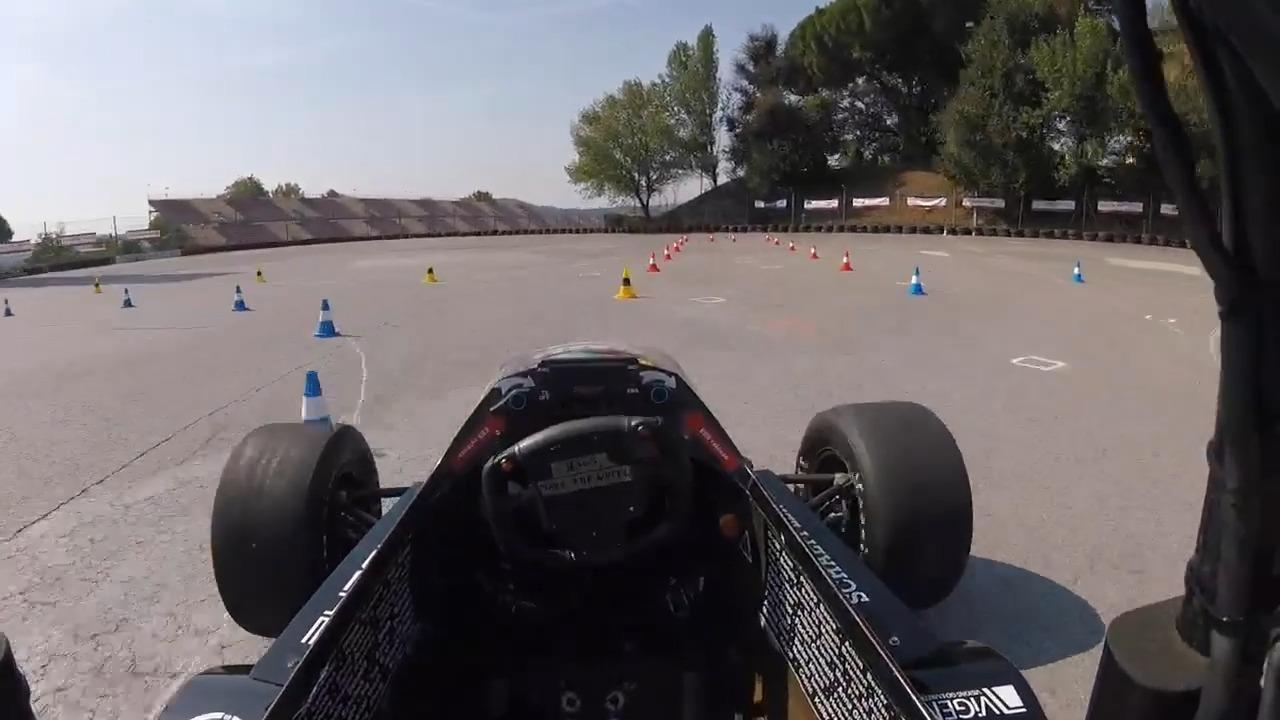blue_cone: (280, 368, 358, 516), (313, 298, 343, 342), (229, 285, 253, 316), (907, 267, 928, 299), (120, 285, 136, 310), (1070, 262, 1084, 283), (4, 298, 16, 319)
orange_cone: (645, 251, 661, 275), (838, 251, 855, 272), (810, 243, 820, 260), (662, 247, 672, 263), (789, 239, 796, 251), (673, 241, 680, 253)
yellow_cone: (615, 268, 640, 300), (421, 264, 439, 286), (91, 275, 106, 298), (251, 267, 266, 287)
